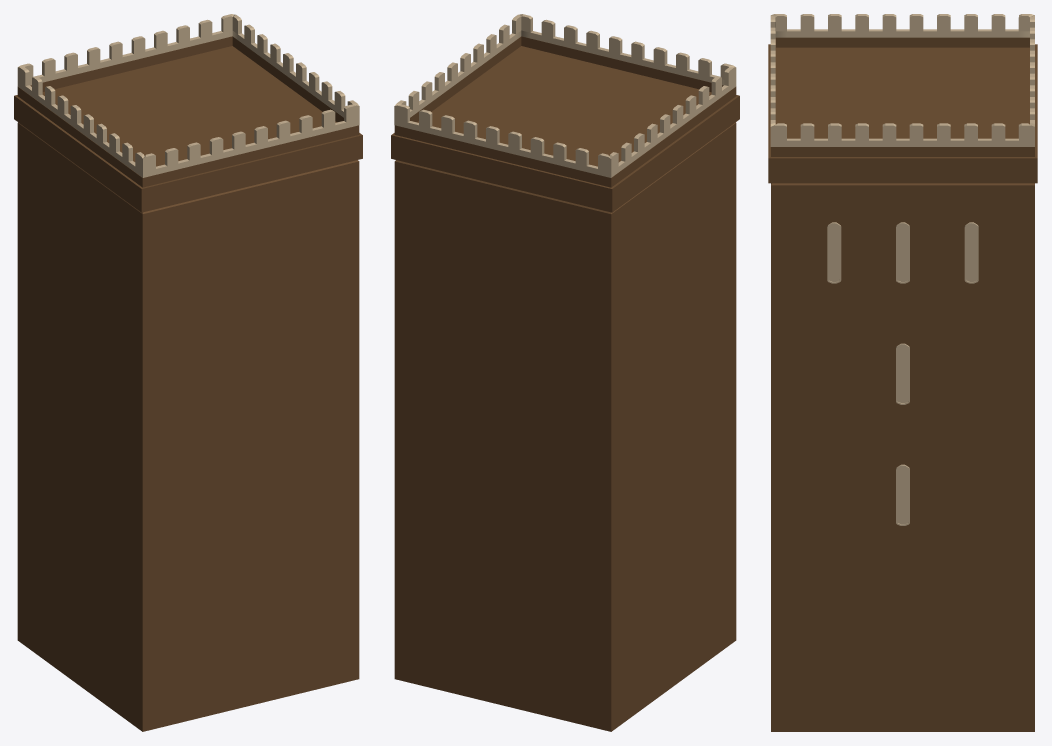
The model's file is SM_large_tower_02.fbx.
3 renders of one model, left to right at view 1: azimuth 30°, elevation 25°; view 2: azimuth 150°, elevation 25°; view 3: azimuth 270°, elevation 25°, orthographic. The views are drawn at different scales.
Visible parts, largest first — view 1: large_tower_02; view 2: large_tower_02; view 3: large_tower_02.
Part boxes in pixels (x1,y1,x2,y2): large_tower_02: (14, 14, 362, 731); large_tower_02: (391, 14, 739, 731); large_tower_02: (768, 14, 1037, 731).
Size of the model in its own units: 510 by 1266 by 510.
